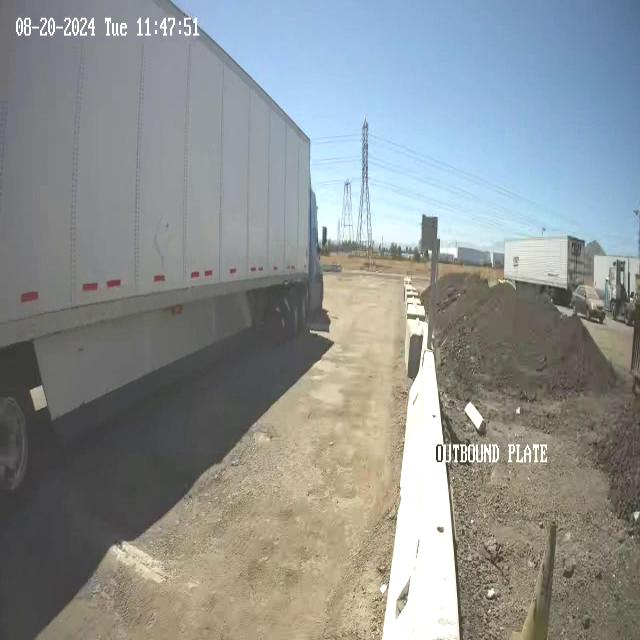CONTAINER: (0, 1, 311, 334)
